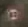limite 60: (3, 6, 23, 22)
